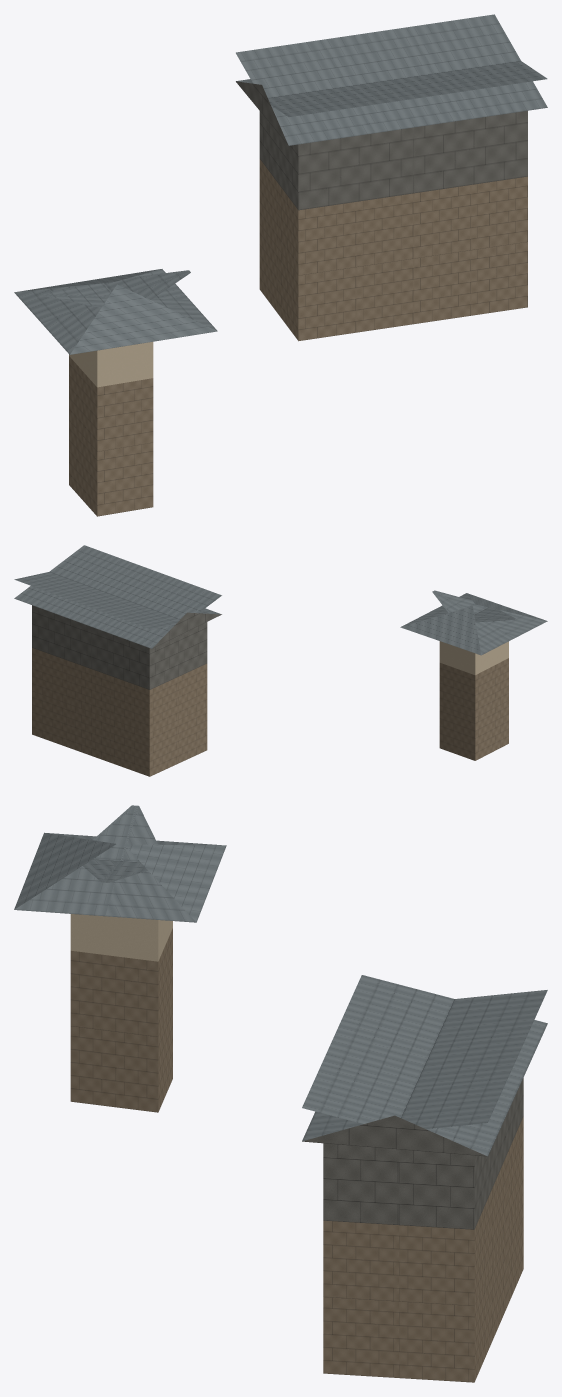
Rendered from bld_c37_-29_438.gltf.
3 views of the same model, one above another, from view 1: azimuth 30°, elevation 25°; view 2: azimuth 150°, elevation 25°; view 3: azimuth 270°, elevation 25° (orthographic). The views are drawn at different scales.
Parts seen in each view (by area): view 1: bld_c37_-29_438; view 2: bld_c37_-29_438; view 3: bld_c37_-29_438.
Boxes of the visible parts, x1,y1,x2,y2 form: bld_c37_-29_438: (14, 14, 547, 516); bld_c37_-29_438: (14, 545, 547, 776); bld_c37_-29_438: (14, 805, 547, 1382).
Size of the model in its own units: 22.41 by 8.2 by 14.42.
Materials: 5 (5 with a texture image).
